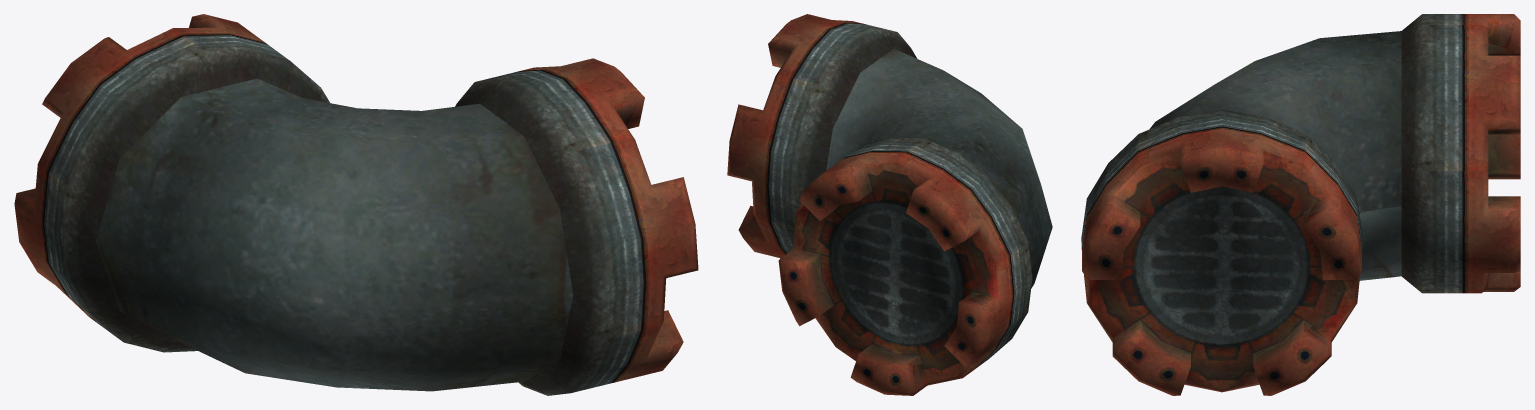
The model's file is tau_tech_bend_short.DAE.
3 views of the same model, side by side, from view 1: azimuth 30°, elevation 25°; view 2: azimuth 150°, elevation 25°; view 3: azimuth 270°, elevation 25° (orthographic). The views are drawn at different scales.
Visible parts, largest first — view 1: polySurface790; view 2: polySurface790; view 3: polySurface790.
Boxes of the visible parts, x1=… form: polySurface790: x1=14, y1=14, x2=698, y2=395; polySurface790: x1=727, y1=14, x2=1052, y2=395; polySurface790: x1=1081, y1=14, x2=1520, y2=395.
Size of the model in its own units: 0.7778 by 0.5035 by 0.7778.
